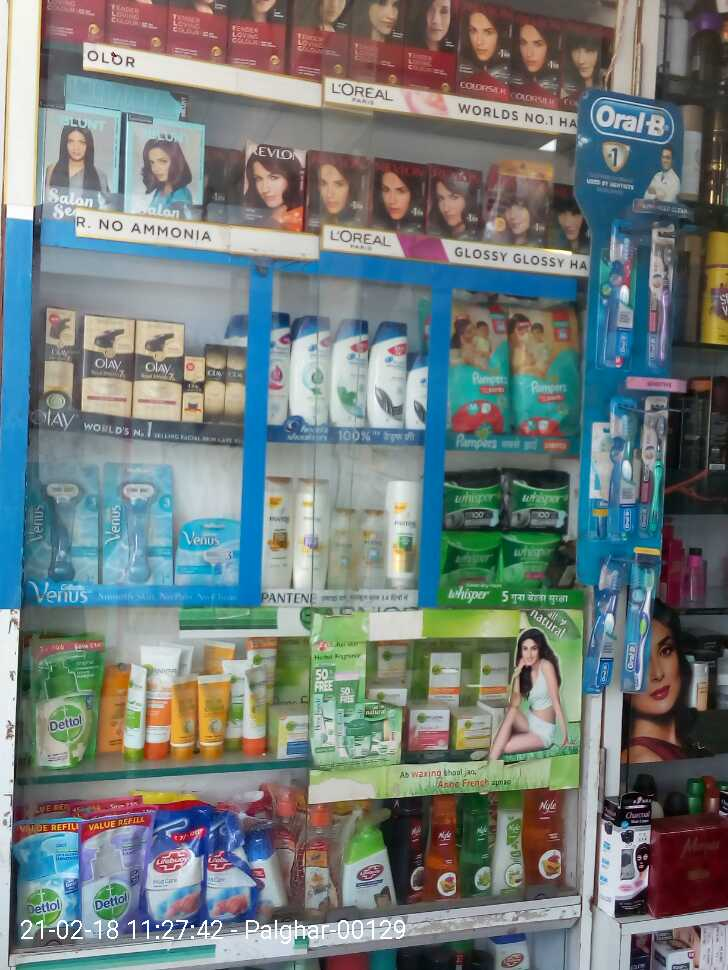venus: (104, 465, 175, 581), (31, 465, 104, 573), (175, 523, 247, 581)
